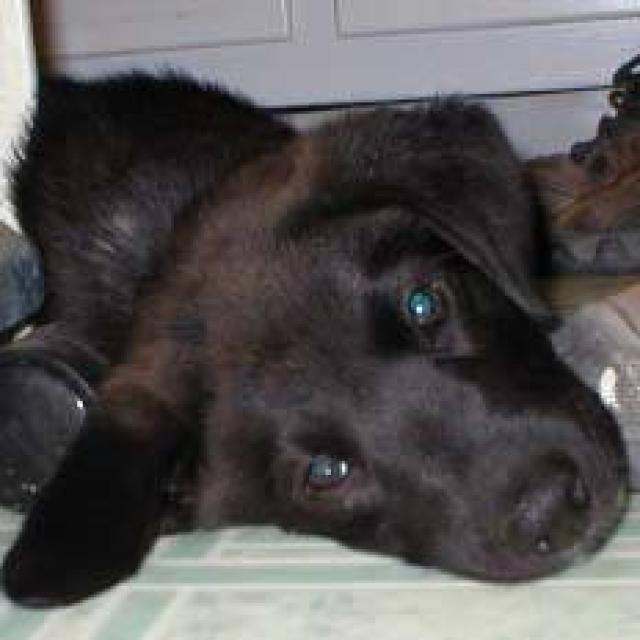dog: (0, 62, 632, 608)
